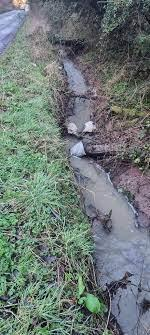Stagnant water: (9, 15, 150, 333)
